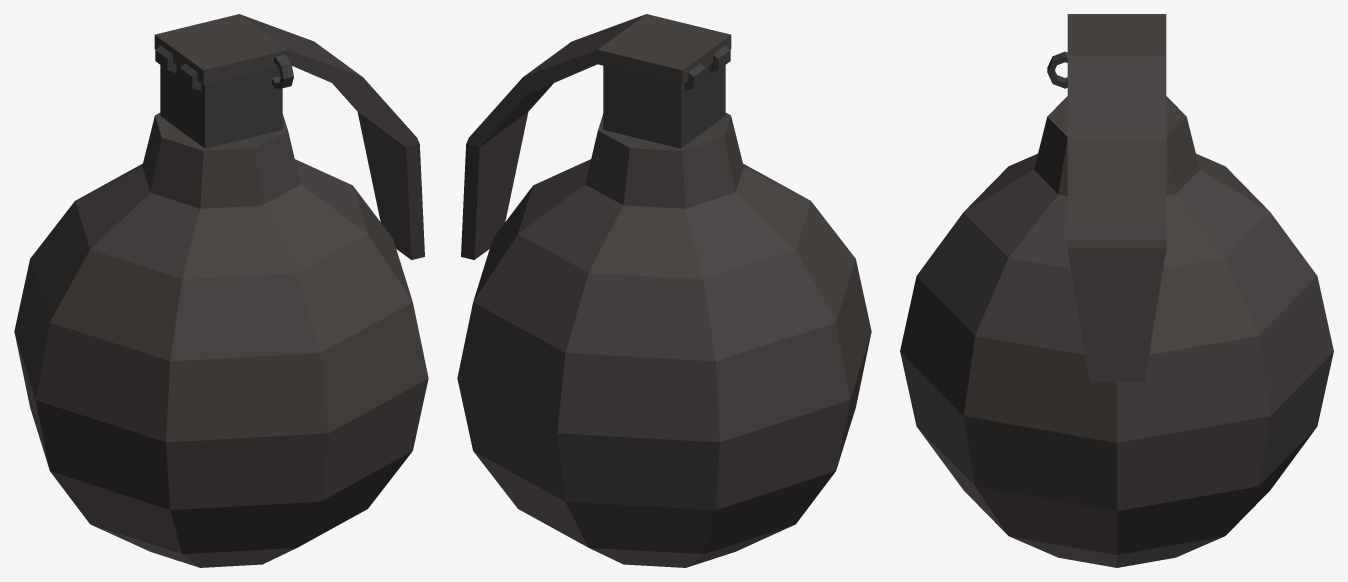
File: Grenade_02_3.fbx
The picture shows the model from 3 angles, left to right: view 1: azimuth 30°, elevation 25°; view 2: azimuth 150°, elevation 25°; view 3: azimuth 270°, elevation 25°; orthographic projection.
Parts seen in each view (by area): view 1: Grenade_02_3; view 2: Grenade_02_3; view 3: Grenade_02_3.
Part boxes in pixels (x1,y1,x2,y2): Grenade_02_3: [14, 14, 428, 567]; Grenade_02_3: [457, 14, 871, 567]; Grenade_02_3: [900, 14, 1333, 567].
Bounding box in the file's own units: 0.0856 × 0.1104 × 0.0847.
